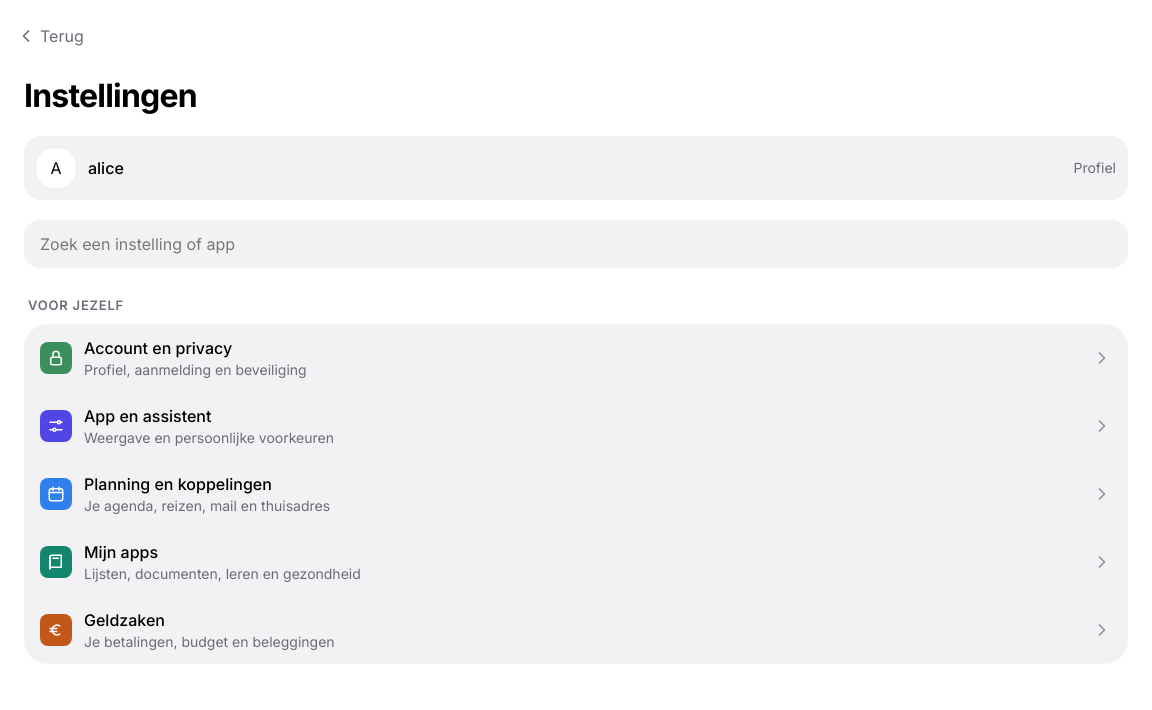
Test: toont vijf groepen en verbergt hun onderliggende keuzes tot openen
The image size is (1152, 710).
Expected: the text "Portefeuille, markten en volglijst" is not shown
Expected: the text "Account en privacy" is shown, [84,338,232,358]
Step 1. Click the text "Geldzaken" → {"x": 124, "y": 620}, box [84,610,165,630]
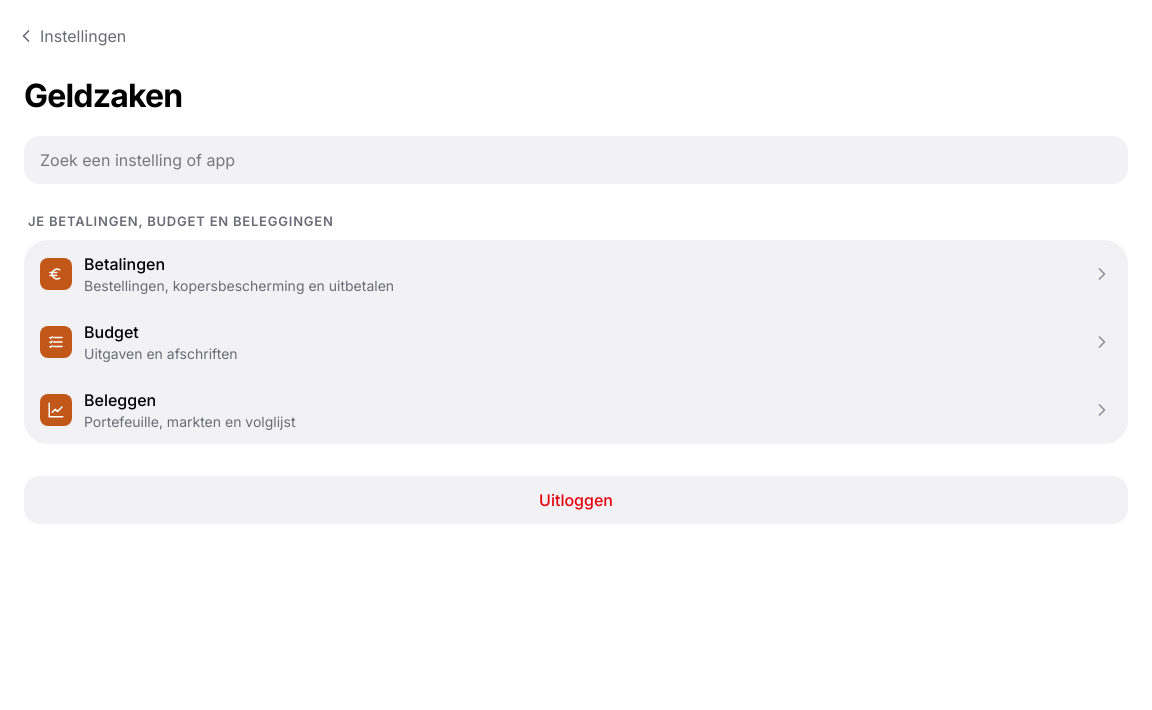
Expected: the text "Budget" is shown, [84,322,139,342]
Expected: the text "Betalingen" is shown, [84,254,165,274]
